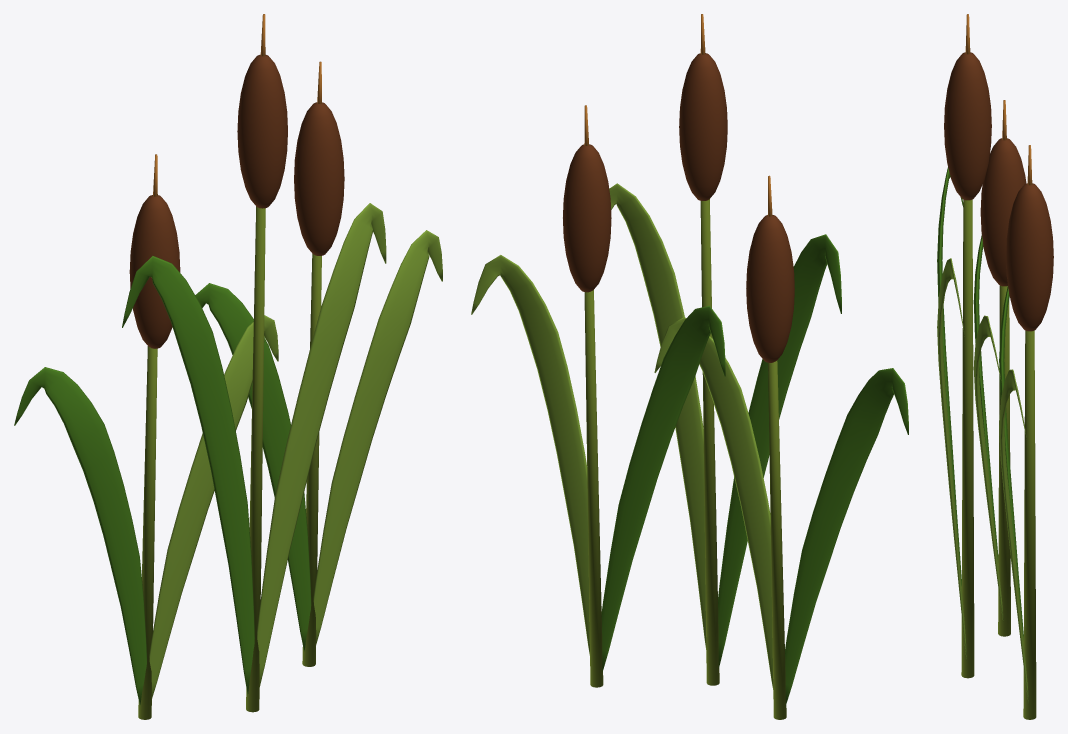
File: cattails_cluster.glb
3 renders of one model, left to right at view 1: azimuth 30°, elevation 25°; view 2: azimuth 150°, elevation 25°; view 3: azimuth 270°, elevation 25°, orthographic. The views are drawn at different scales.
Parts seen in each view (by area): view 1: StrapLeaf.002, StrapLeaf.003, StrapLeaf.005, StrapLeaf, StrapLeaf.001, StrapLeaf.004, BrownSeedHead.001, BrownSeedHead.002, Stem.001, BrownSeedHead, Stem, Stem.002; view 2: StrapLeaf.004, StrapLeaf, StrapLeaf.005, StrapLeaf.002, StrapLeaf.003, StrapLeaf.001, BrownSeedHead, BrownSeedHead.001, BrownSeedHead.002, Stem.001, Stem.002, Stem; view 3: BrownSeedHead.001, BrownSeedHead.002, Stem.001, Stem.002, BrownSeedHead, Stem, StrapLeaf.003, StrapLeaf.005, StrapLeaf.001, StrapLeaf.002, StrapLeaf.004, StrapLeaf.
Boxes of the visible parts, box(x1,y1,x2,y2) form: StrapLeaf.002: box(122, 256, 254, 695); StrapLeaf.003: box(257, 203, 386, 686); StrapLeaf.005: box(313, 230, 442, 643); StrapLeaf: box(14, 367, 146, 705); StrapLeaf.001: box(149, 315, 278, 698); StrapLeaf.004: box(195, 283, 311, 651); BrownSeedHead.001: box(237, 54, 287, 208); BrownSeedHead.002: box(294, 102, 344, 255); Stem.001: box(246, 206, 265, 712); BrownSeedHead: box(129, 195, 180, 348); Stem: box(138, 346, 157, 719); Stem.002: box(302, 254, 321, 666); StrapLeaf.004: box(601, 305, 725, 672); StrapLeaf: box(785, 368, 908, 705); StrapLeaf.005: box(471, 255, 589, 655); StrapLeaf.002: box(718, 234, 841, 668); StrapLeaf.003: box(609, 183, 706, 649); StrapLeaf.001: box(654, 317, 773, 689); BrownSeedHead: box(746, 215, 794, 362); BrownSeedHead.001: box(679, 53, 727, 200); BrownSeedHead.002: box(563, 144, 611, 292); Stem.001: box(700, 199, 719, 685); Stem.002: box(584, 290, 603, 687); Stem: box(768, 360, 786, 719); BrownSeedHead.001: box(944, 52, 991, 200); BrownSeedHead.002: box(1006, 183, 1053, 331); Stem.001: box(961, 199, 974, 678); Stem.002: box(1023, 330, 1036, 719); BrownSeedHead: box(980, 138, 1026, 286); Stem: box(998, 285, 1010, 636); StrapLeaf.003: box(937, 258, 966, 660); StrapLeaf.005: box(999, 369, 1028, 704); StrapLeaf.001: box(973, 315, 1003, 621); StrapLeaf.002: box(937, 167, 963, 585); StrapLeaf.004: box(999, 286, 1023, 639); StrapLeaf: box(973, 235, 998, 562).
Bounding box in the file's own units: 1.74 × 2.61 × 0.4145.
